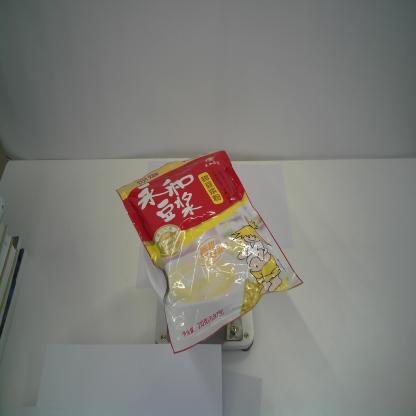Instant Drink: (115, 148, 304, 355)
